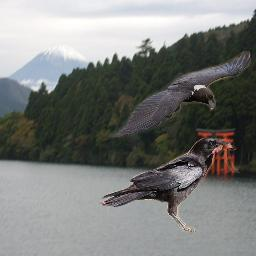Crow: (99, 134, 245, 232), (109, 51, 251, 140)
